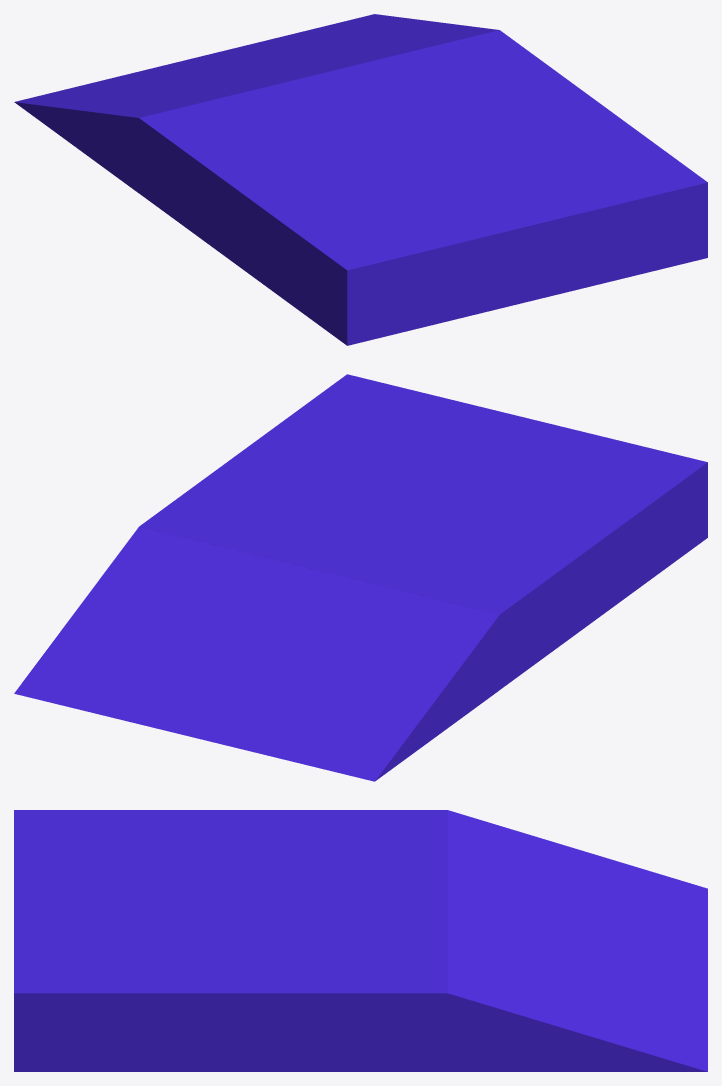
Rendered from level-1.glb.
3 views of the same model, one above another, from view 1: azimuth 30°, elevation 25°; view 2: azimuth 150°, elevation 25°; view 3: azimuth 270°, elevation 25° (orthographic). The views are drawn at different scales.
Visible parts, largest first — view 1: Cube, Cube.001; view 2: Cube, Cube.001; view 3: Cube, Cube.001.
Boxes of the visible parts, x1,y1,x2,y2 form: Cube: (139, 30, 707, 345); Cube.001: (14, 14, 498, 193); Cube: (139, 374, 707, 689); Cube.001: (14, 527, 499, 781); Cube: (14, 810, 447, 1071); Cube.001: (447, 810, 707, 1071).
Size of what is drawn, in the model's own units: 10 by 2 by 16.
